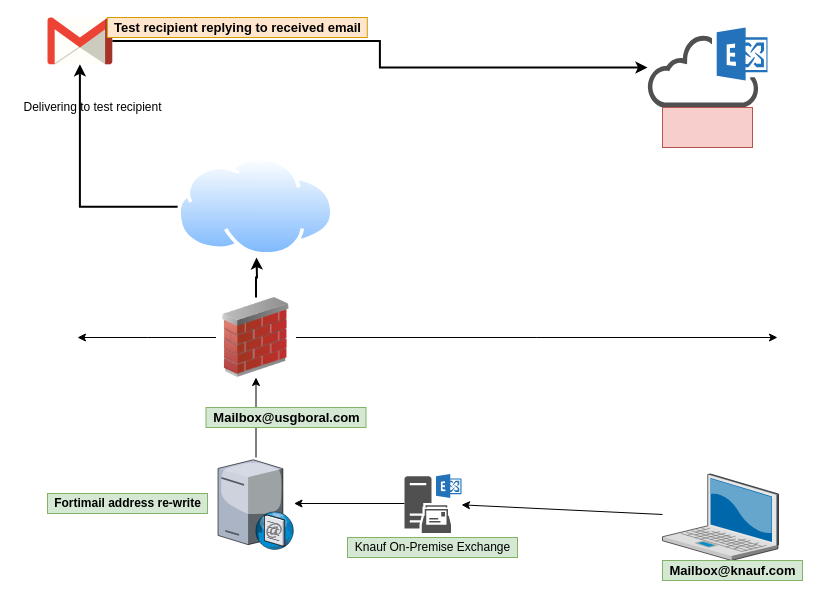
The diagram is 820 pixels wide and 598 high, and some of its shapes have lost their labels. The centre of each missing label's shape, as x and y in pixels:
Internet: point 255,206
USG Boral O365: point 707,127
